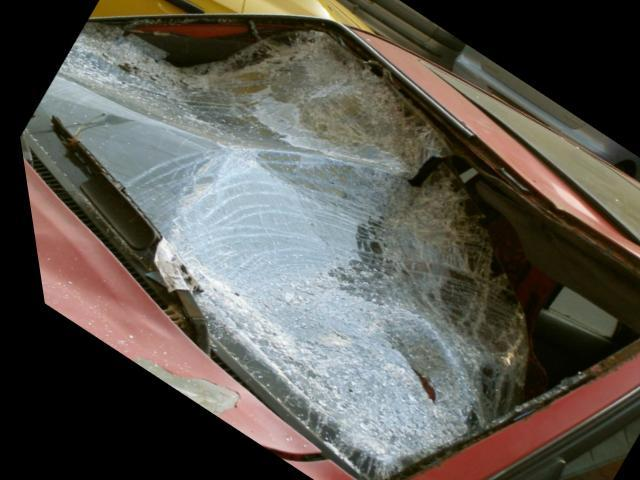dent: (20, 168, 272, 439), (544, 183, 630, 248)
glass shatter: (24, 21, 640, 480)
